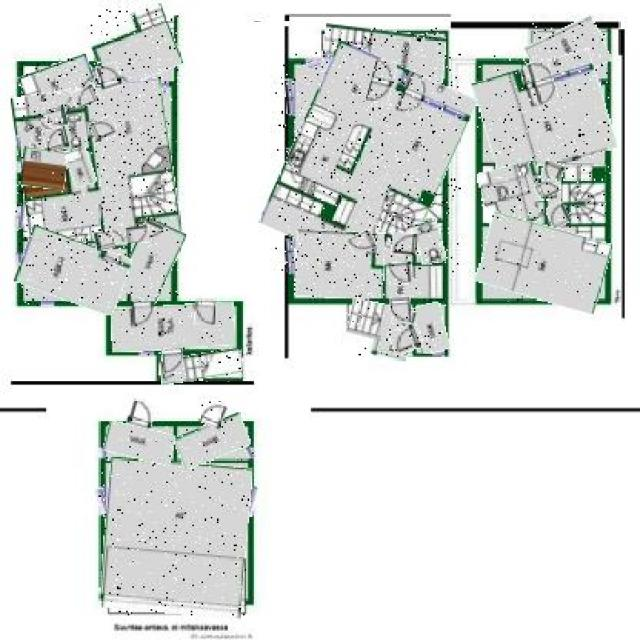door: (529, 59, 557, 104), (370, 59, 396, 104), (389, 324, 422, 354), (128, 400, 155, 428), (202, 400, 226, 428), (97, 63, 121, 89), (43, 128, 69, 152), (349, 232, 377, 254), (91, 117, 117, 140), (132, 300, 154, 326), (392, 234, 418, 255), (540, 160, 563, 183), (548, 203, 569, 228), (391, 297, 411, 323), (163, 349, 183, 374), (196, 300, 216, 325), (390, 263, 412, 285), (536, 178, 558, 200), (74, 86, 98, 106), (48, 104, 68, 128), (96, 229, 116, 251), (126, 226, 149, 243)
window: (123, 75, 168, 91), (392, 75, 437, 88), (551, 294, 591, 308), (554, 77, 601, 86), (96, 488, 110, 517), (245, 486, 257, 517), (286, 238, 296, 272), (306, 57, 342, 66), (286, 78, 294, 114), (286, 148, 296, 170), (354, 295, 369, 308), (16, 206, 24, 228), (17, 252, 23, 277), (138, 348, 154, 355), (362, 63, 369, 79), (246, 446, 254, 459), (40, 300, 54, 306), (17, 160, 23, 172), (92, 68, 99, 78), (17, 123, 23, 134), (432, 352, 445, 357), (99, 448, 106, 457)
zone: (275, 51, 460, 272), (17, 82, 177, 249), (102, 460, 249, 615), (477, 55, 611, 174), (478, 219, 610, 306), (19, 232, 130, 308), (91, 9, 180, 85), (322, 28, 446, 82), (294, 231, 384, 297), (112, 304, 235, 350), (529, 23, 609, 85), (123, 220, 179, 303), (480, 163, 548, 228), (344, 302, 416, 358), (539, 164, 606, 224), (20, 58, 95, 111), (176, 418, 250, 464), (104, 423, 174, 463), (159, 351, 243, 382), (385, 264, 443, 298), (20, 148, 68, 189), (20, 108, 68, 148), (412, 303, 448, 354), (415, 220, 443, 265), (68, 108, 95, 149), (68, 148, 94, 188)
